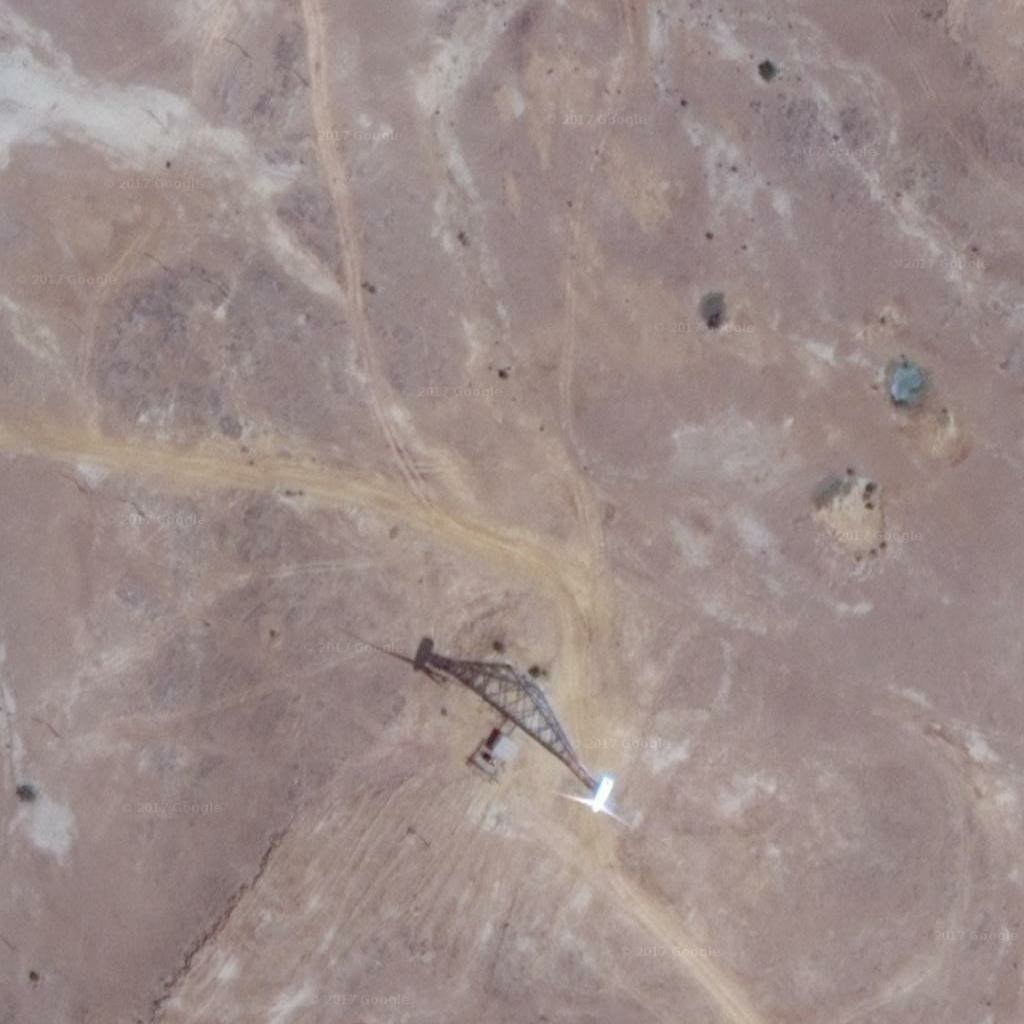Windmill: (339, 621, 573, 733)
